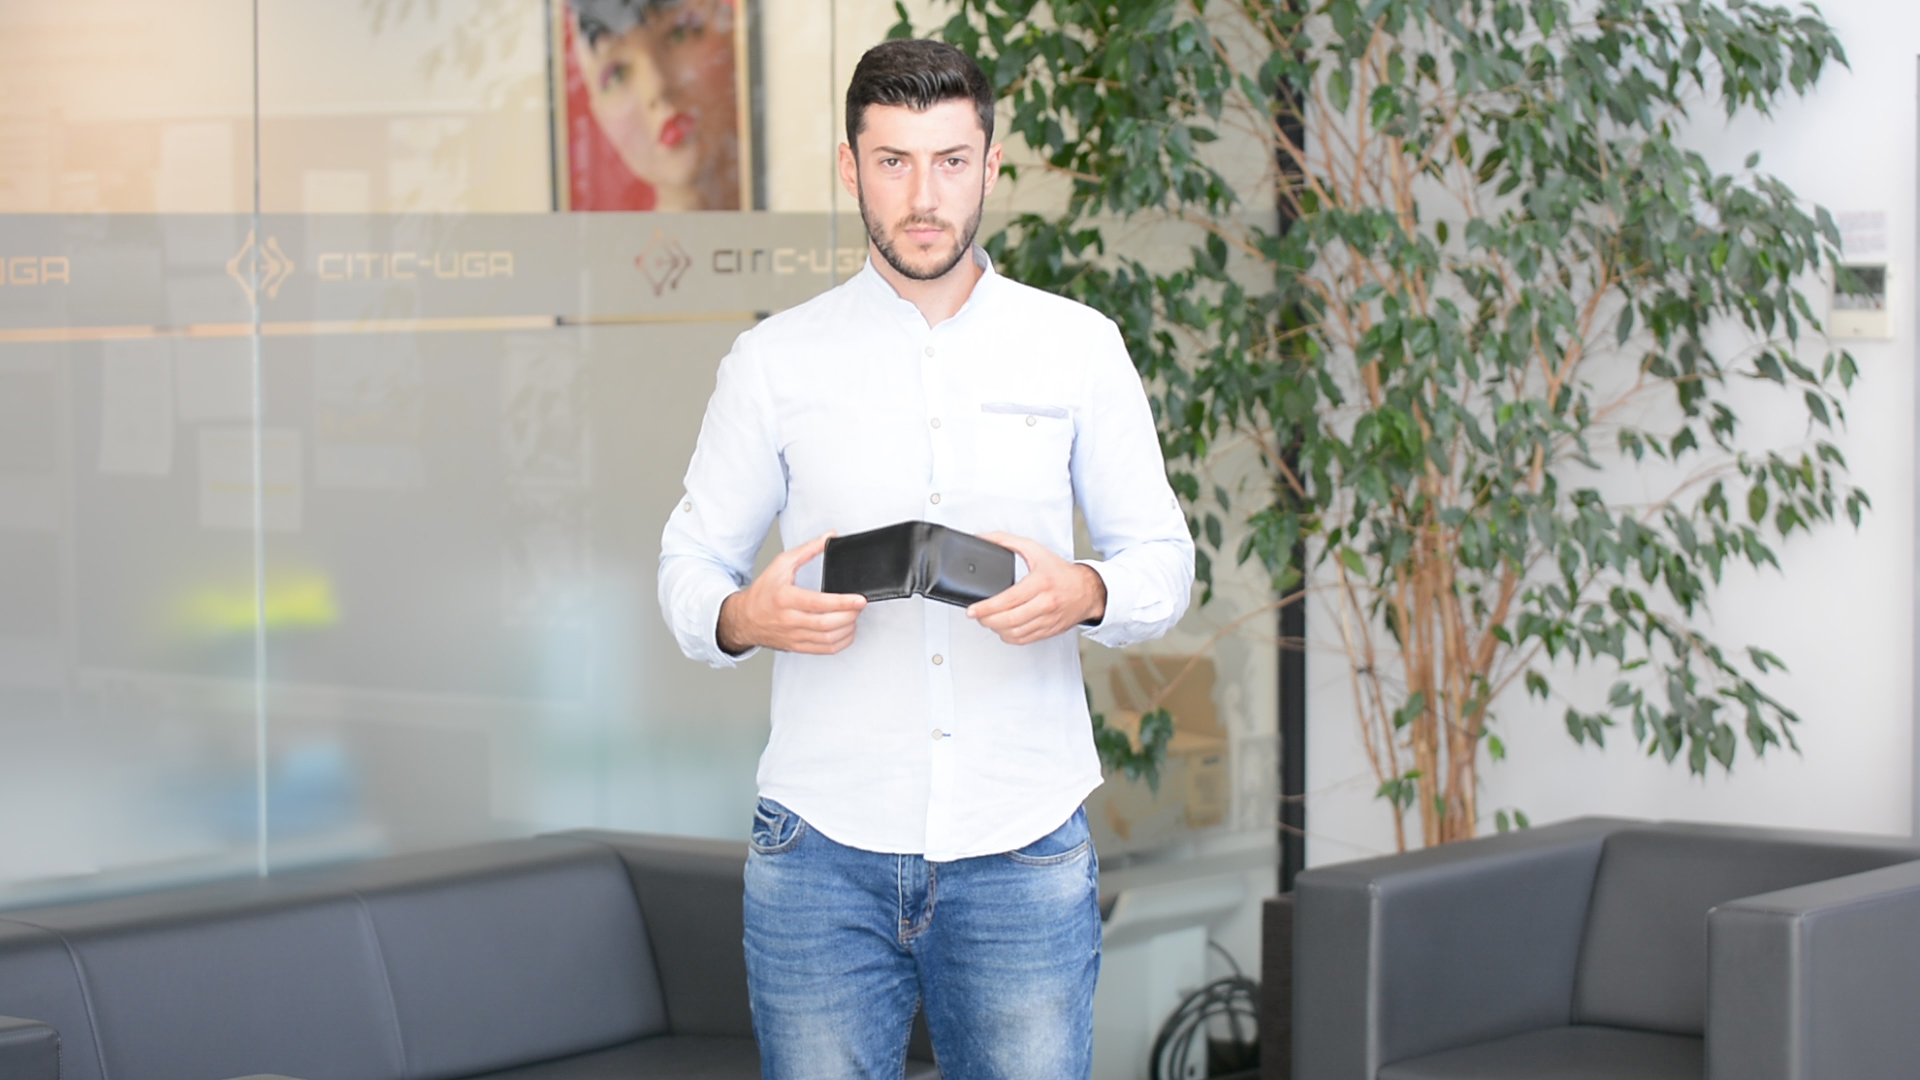monedero: (822, 517, 1017, 611)
